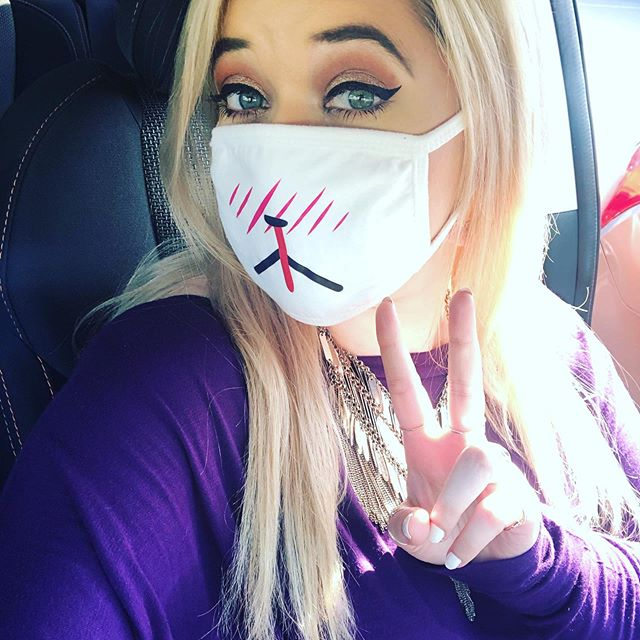homemade: (189, 112, 513, 331)
